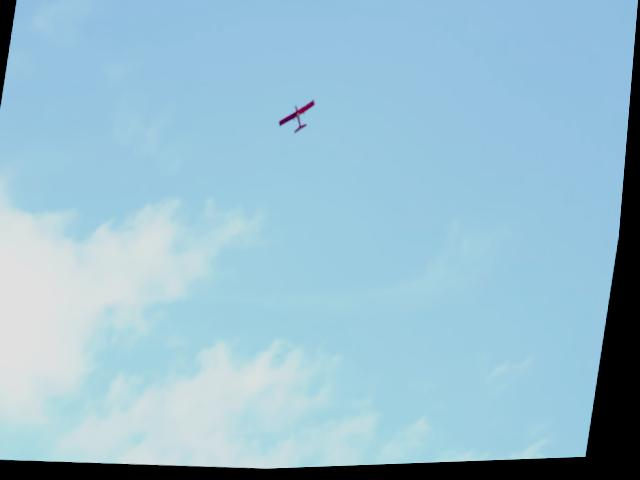plane: (279, 100, 317, 137)
